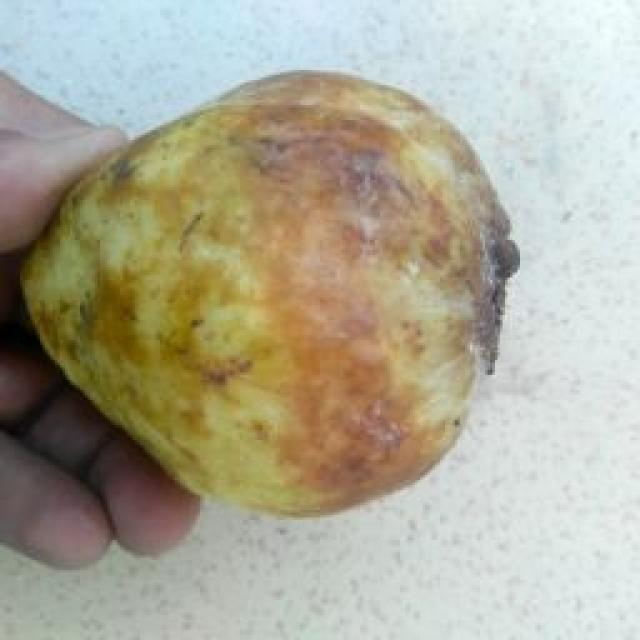Bad_Guava: (21, 71, 519, 514)
